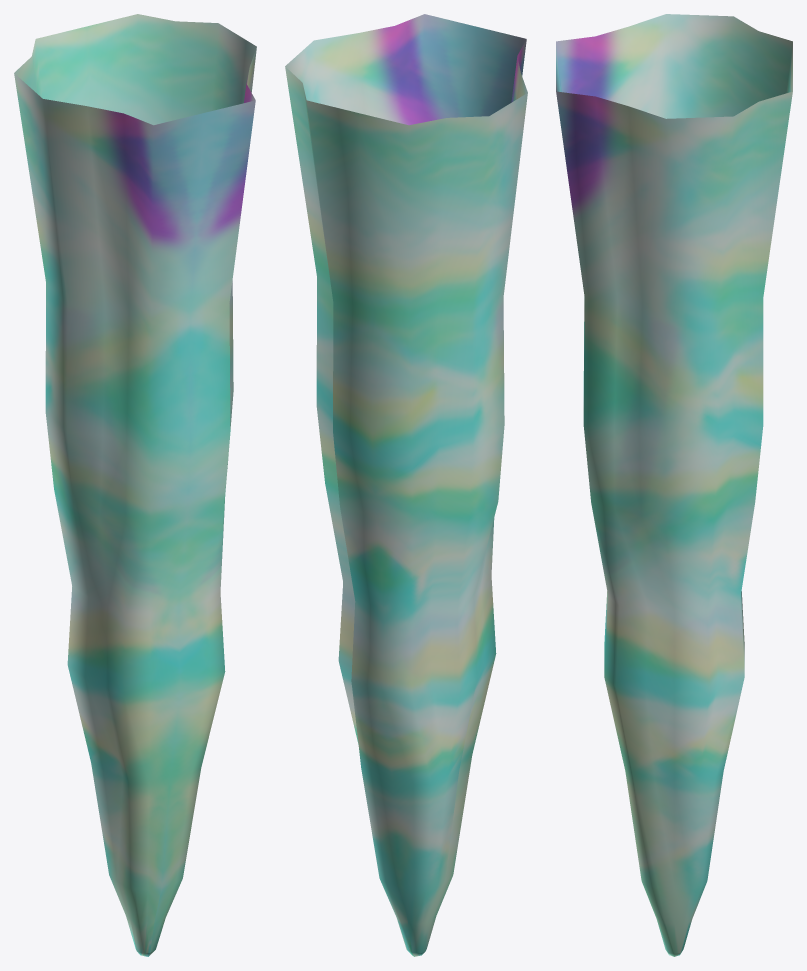
The model's file is icicles.FBX.
The picture shows the model from 3 angles, left to right: view 1: azimuth 30°, elevation 25°; view 2: azimuth 150°, elevation 25°; view 3: azimuth 270°, elevation 25°; orthographic projection.
Parts seen in each view (by area): view 1: Plane001; view 2: Plane001; view 3: Plane001.
Part boxes in pixels (left/top/right/bottom): Plane001: left=14, top=14, right=256, bottom=956; Plane001: left=285, top=14, right=527, bottom=956; Plane001: left=556, top=14, right=792, bottom=956.
Size of the model in its own units: 86.68 by 343 by 82.76.
